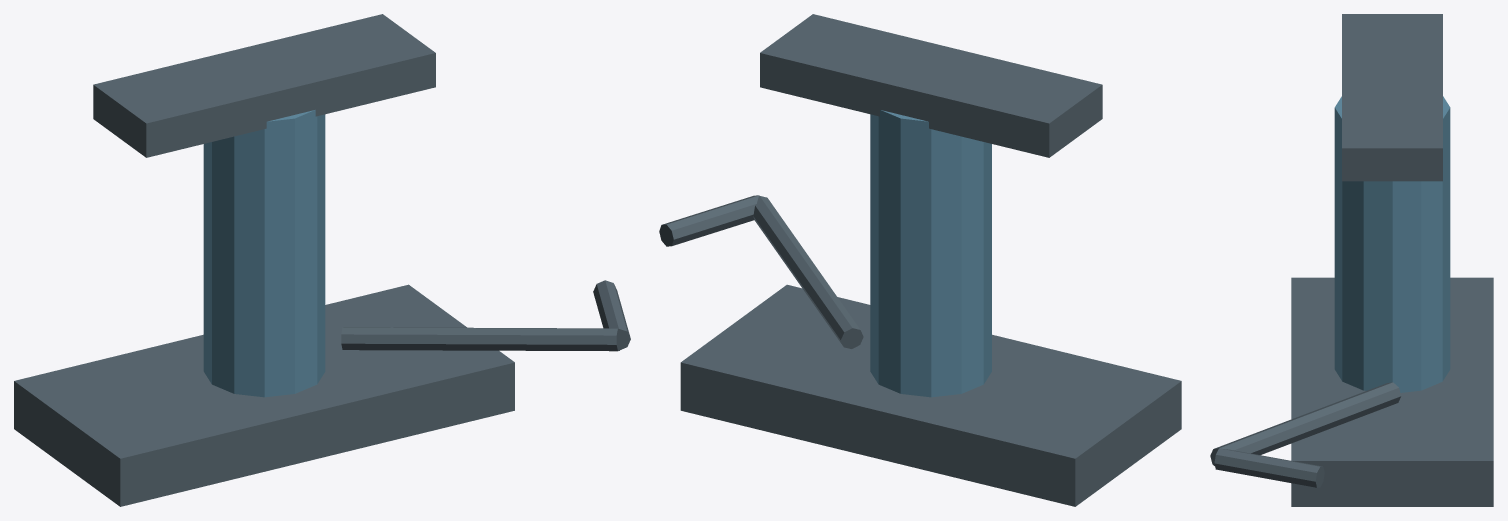
Rendered from football-soccer-club-grounds-ball-pump-46d4eaeb.glb.
3 views of the same model, side by side, from view 1: azimuth 30°, elevation 25°; view 2: azimuth 150°, elevation 25°; view 3: azimuth 270°, elevation 25° (orthographic). The views are drawn at different scales.
Parts seen in each view (by area): view 1: ball-pump; view 2: ball-pump; view 3: ball-pump.
Part boxes in pixels (x1,y1,x2,y2): ball-pump: [14, 14, 630, 506]; ball-pump: [659, 14, 1181, 506]; ball-pump: [1210, 14, 1493, 506].
Bounding box in the file's own units: 0.3874 × 0.255 × 0.1961.
